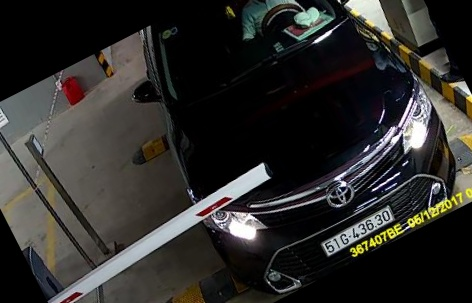plate: (320, 204, 390, 257)
